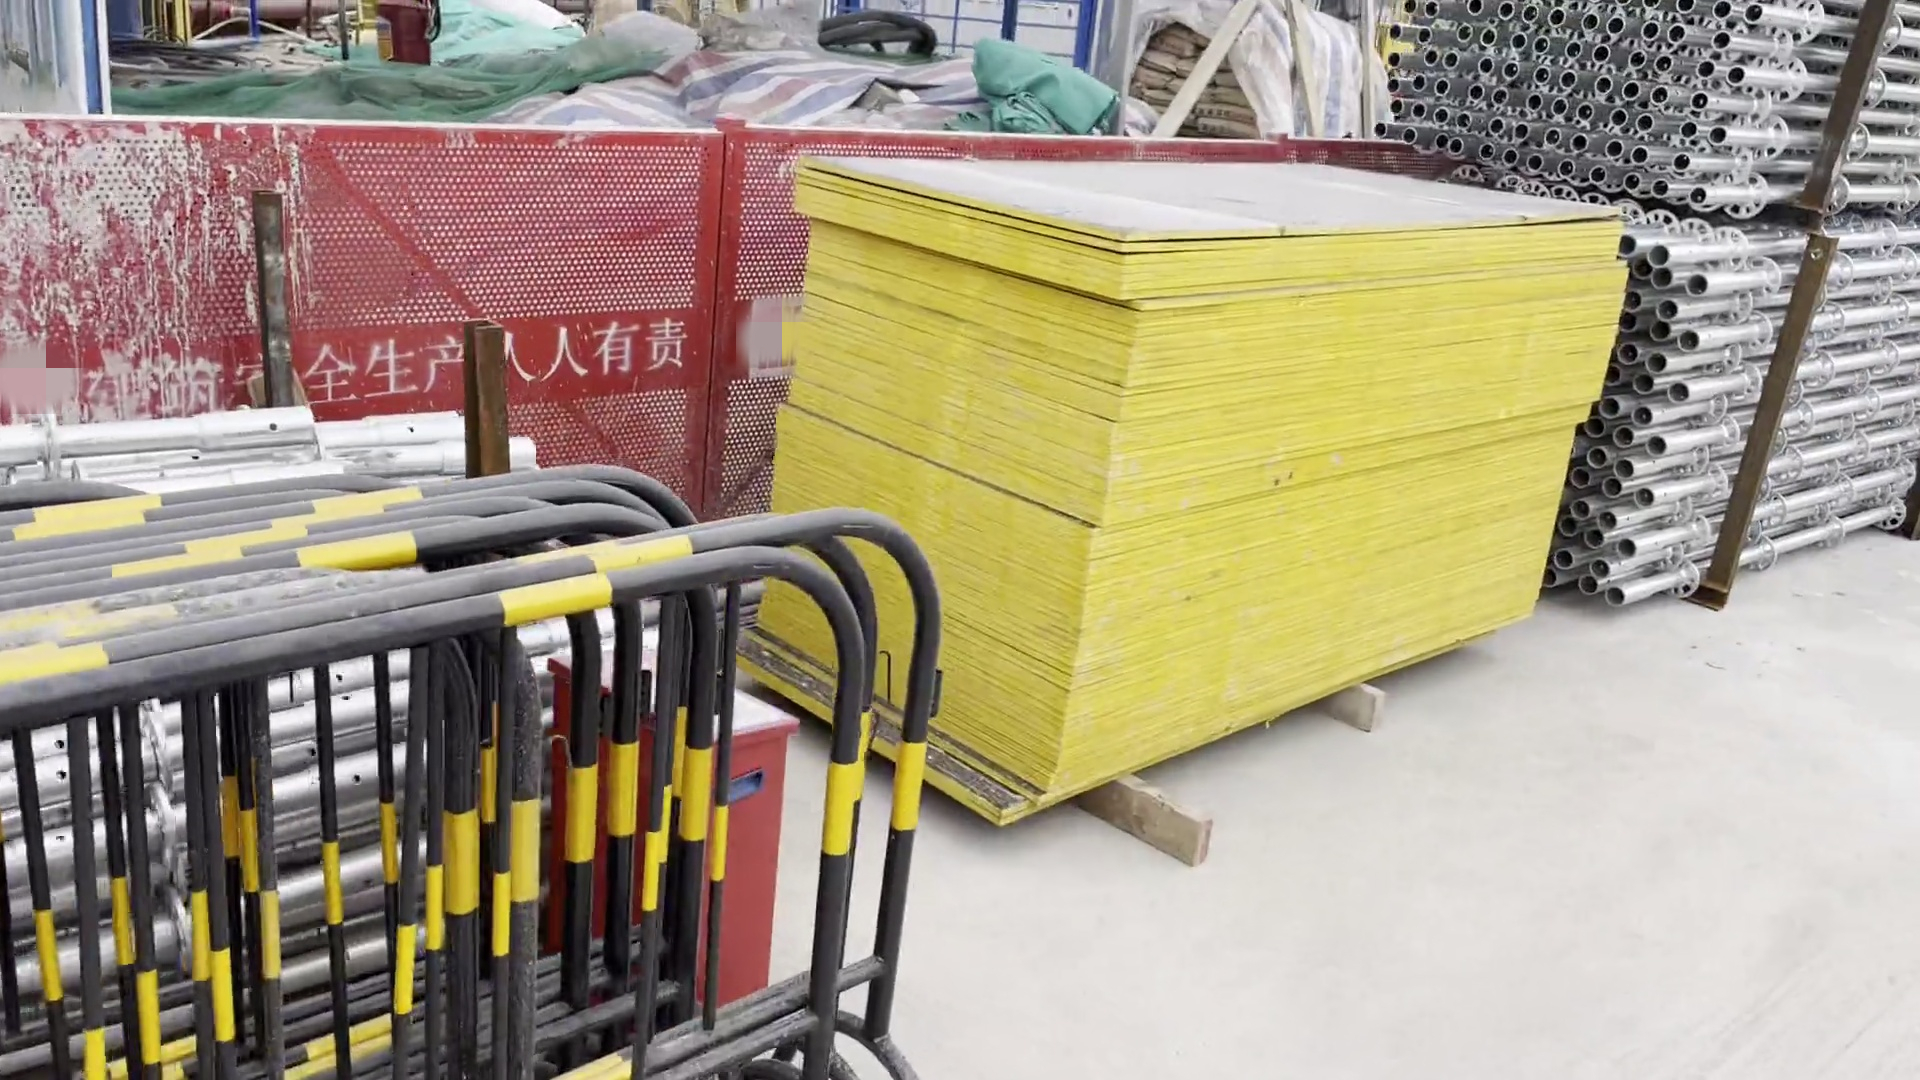board: (659, 116, 1607, 831)
scaffold: (1515, 241, 1920, 608), (1377, 3, 1920, 200)
slogan: (244, 315, 696, 406)
